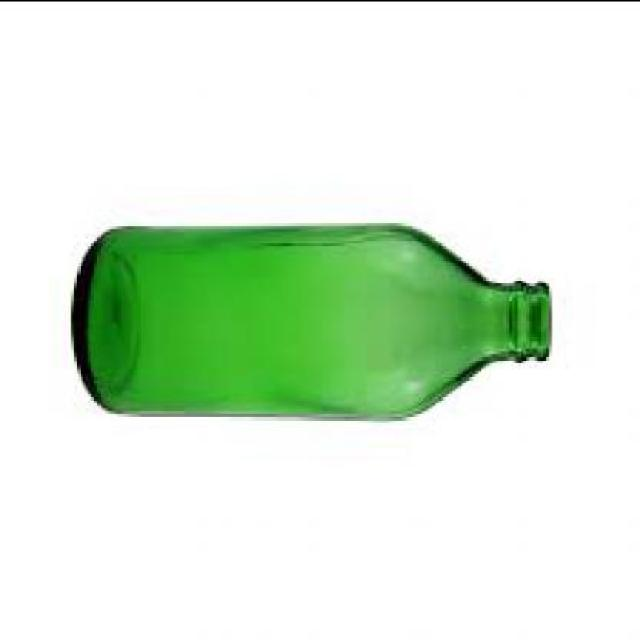GLASS: (74, 224, 554, 422)
